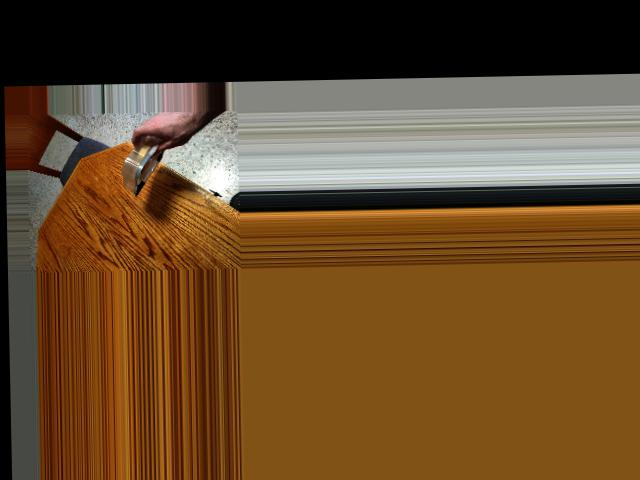cheese: (104, 120, 188, 183)
